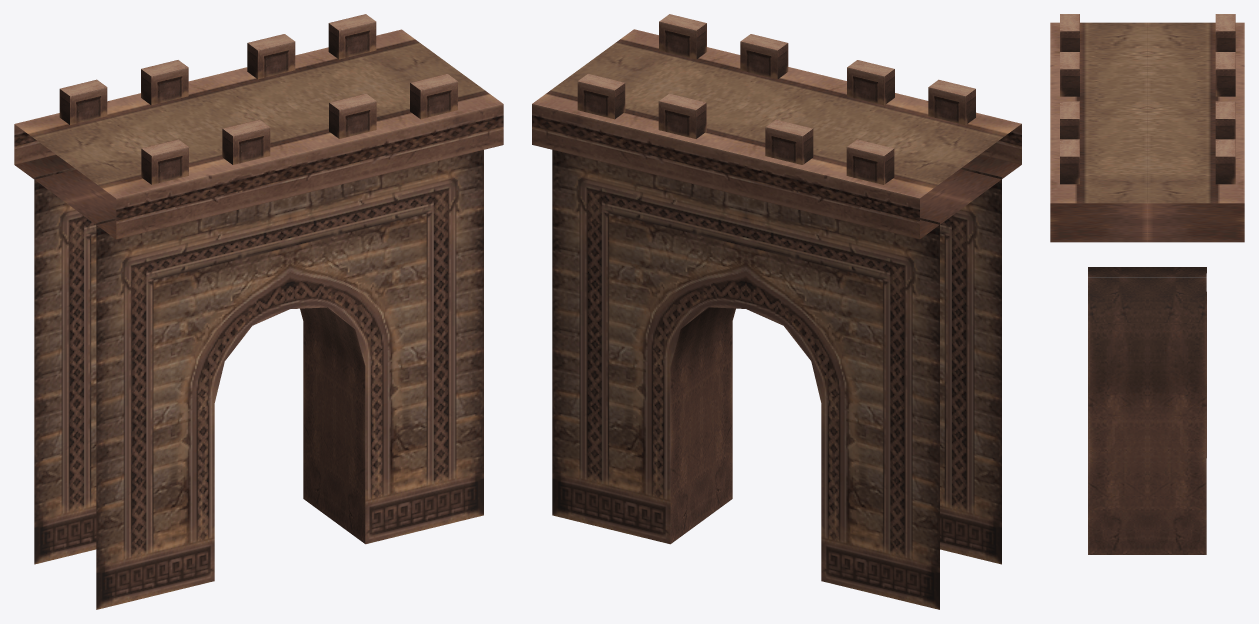
File: SC_huangmo_05.FBX
3 renders of one model, left to right at view 1: azimuth 30°, elevation 25°; view 2: azimuth 150°, elevation 25°; view 3: azimuth 270°, elevation 25°, orthographic. The views are drawn at different scales.
Visible parts, largest first — view 1: SC_huangmo_05; view 2: SC_huangmo_05; view 3: SC_huangmo_05.
Boxes of the visible parts, x1,y1,x2,y2 form: SC_huangmo_05: [14, 14, 503, 609]; SC_huangmo_05: [532, 14, 1021, 609]; SC_huangmo_05: [1050, 14, 1244, 554].
Size of the model in its own units: 692 by 776 by 315.
